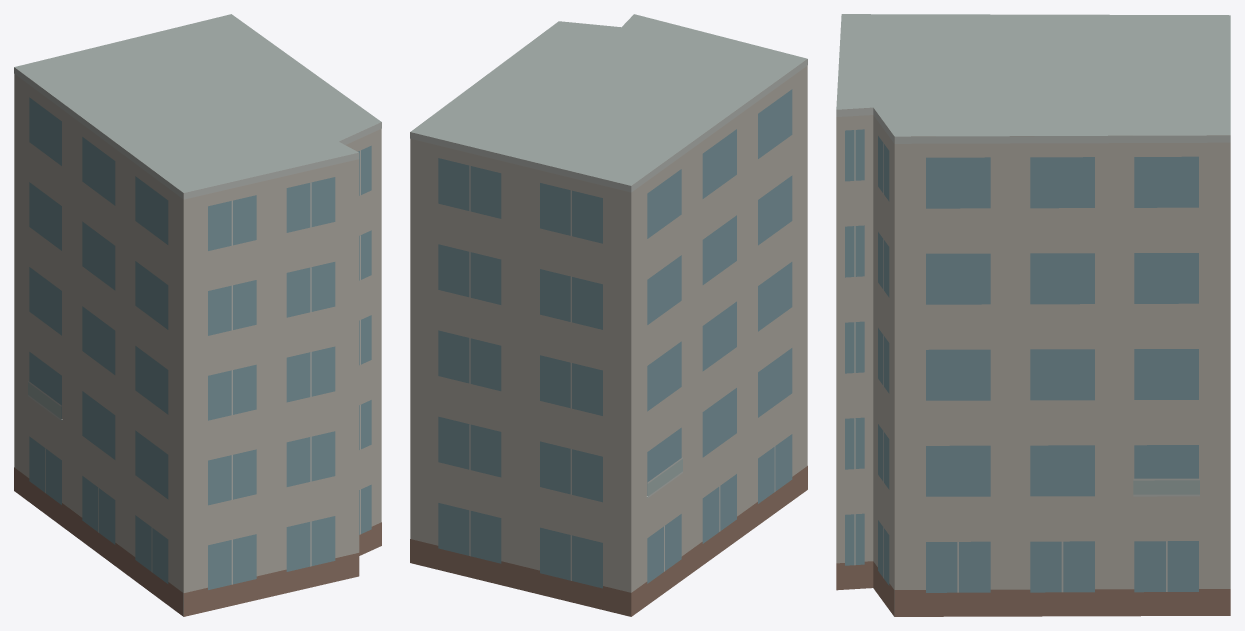
The model's file is survey-upis-32840771.glb.
3 views of the same model, side by side, from view 1: azimuth 30°, elevation 25°; view 2: azimuth 150°, elevation 25°; view 3: azimuth 270°, elevation 25° (orthographic). The views are drawn at different scales.
Parts seen in each view (by area): view 1: survey-upis-32840771.tmp; view 2: survey-upis-32840771.tmp; view 3: survey-upis-32840771.tmp.
Boxes of the visible parts, x1,y1,x2,y2 form: survey-upis-32840771.tmp: (14, 14, 381, 616); survey-upis-32840771.tmp: (410, 14, 807, 616); survey-upis-32840771.tmp: (836, 14, 1230, 616).
Bounding box in the file's own units: 8.71 × 15.9 × 11.84.
